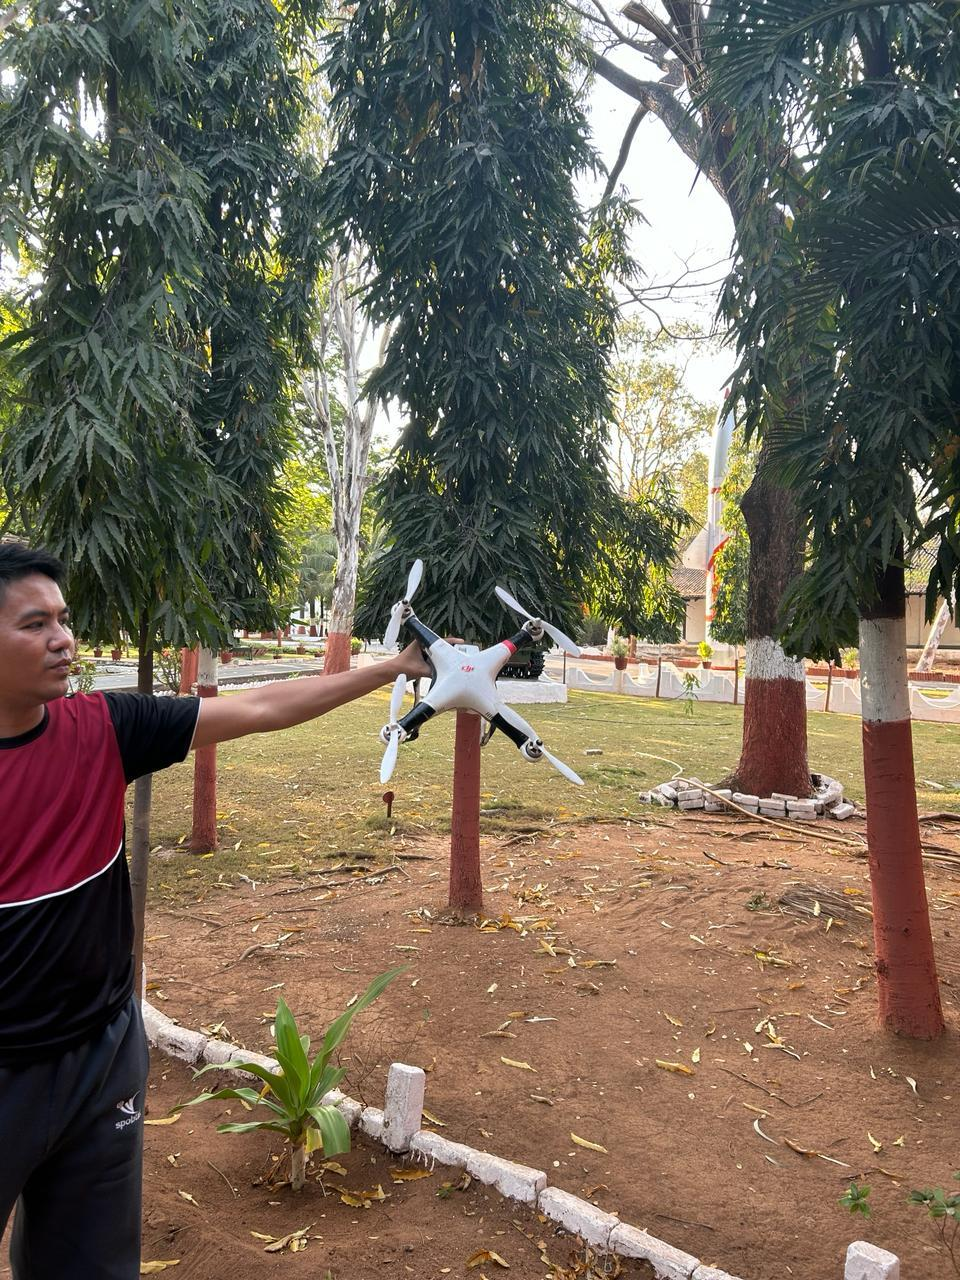drone: (367, 550, 615, 804)
